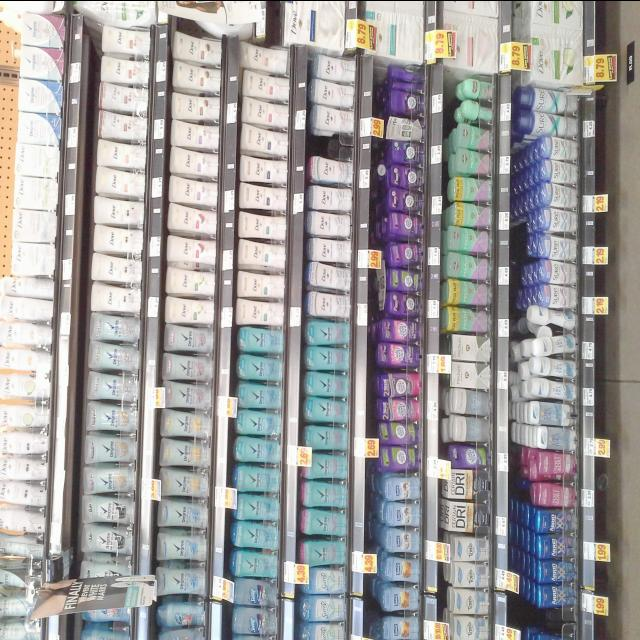empty_space: (521, 610, 569, 635), (314, 136, 354, 152)
